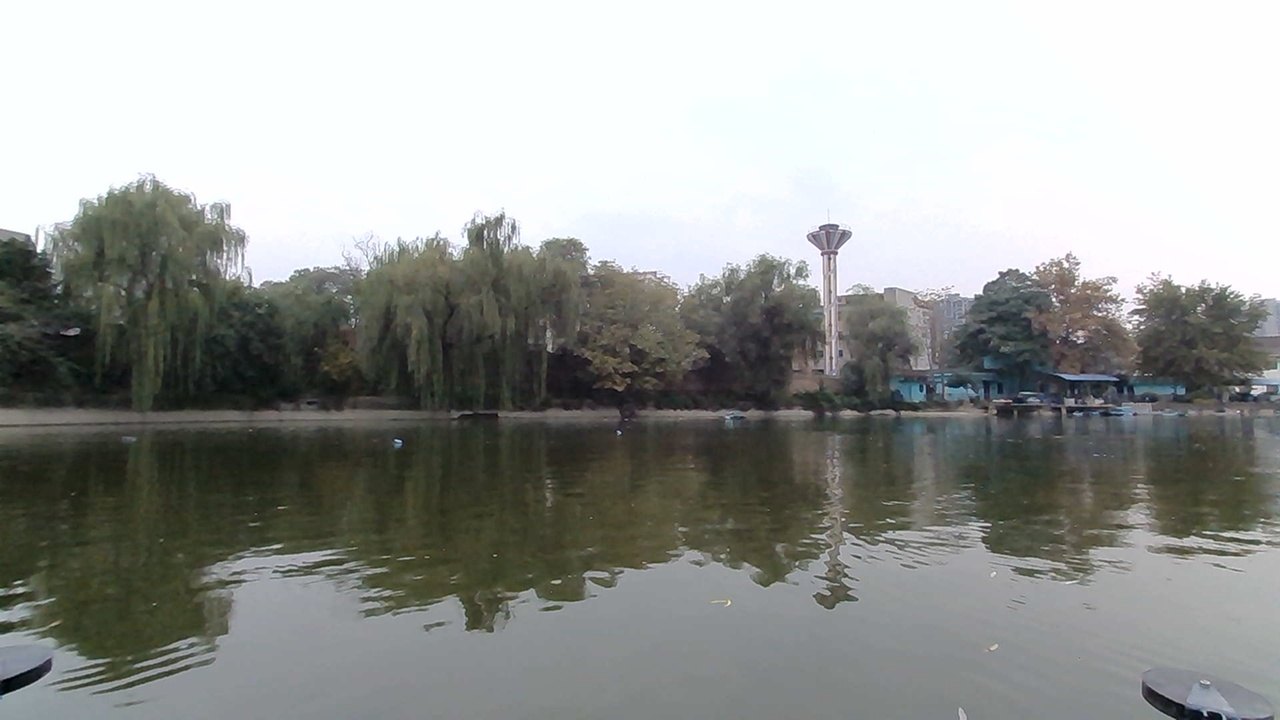bottle: (384, 434, 415, 452)
